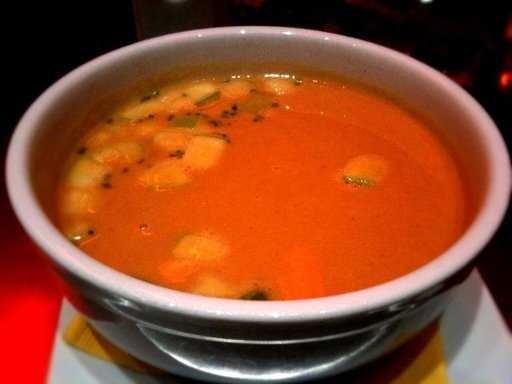soup: (83, 64, 450, 293)
